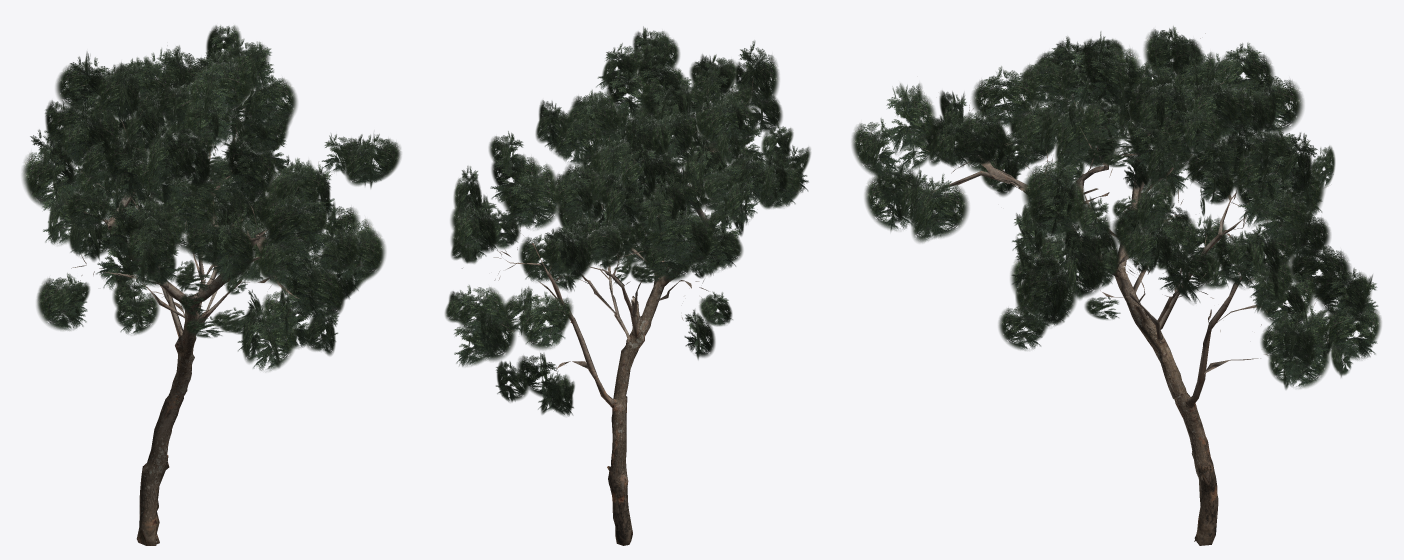
The model's file is tree-v4-high.glb.
3 views of the same model, side by side, from view 1: azimuth 30°, elevation 25°; view 2: azimuth 150°, elevation 25°; view 3: azimuth 270°, elevation 25° (orthographic). The views are drawn at different scales.
Visible parts, largest first — view 1: tree-v4-high; view 2: tree-v4-high; view 3: tree-v4-high.
Part boxes in pixels (x1,y1,x2,y2): tree-v4-high: [22, 25, 401, 545]; tree-v4-high: [445, 26, 810, 545]; tree-v4-high: [851, 26, 1381, 545].
Bounding box in the file's own units: 8.84 × 14.61 × 13.71.
Materials: 3 (3 with a texture image).
